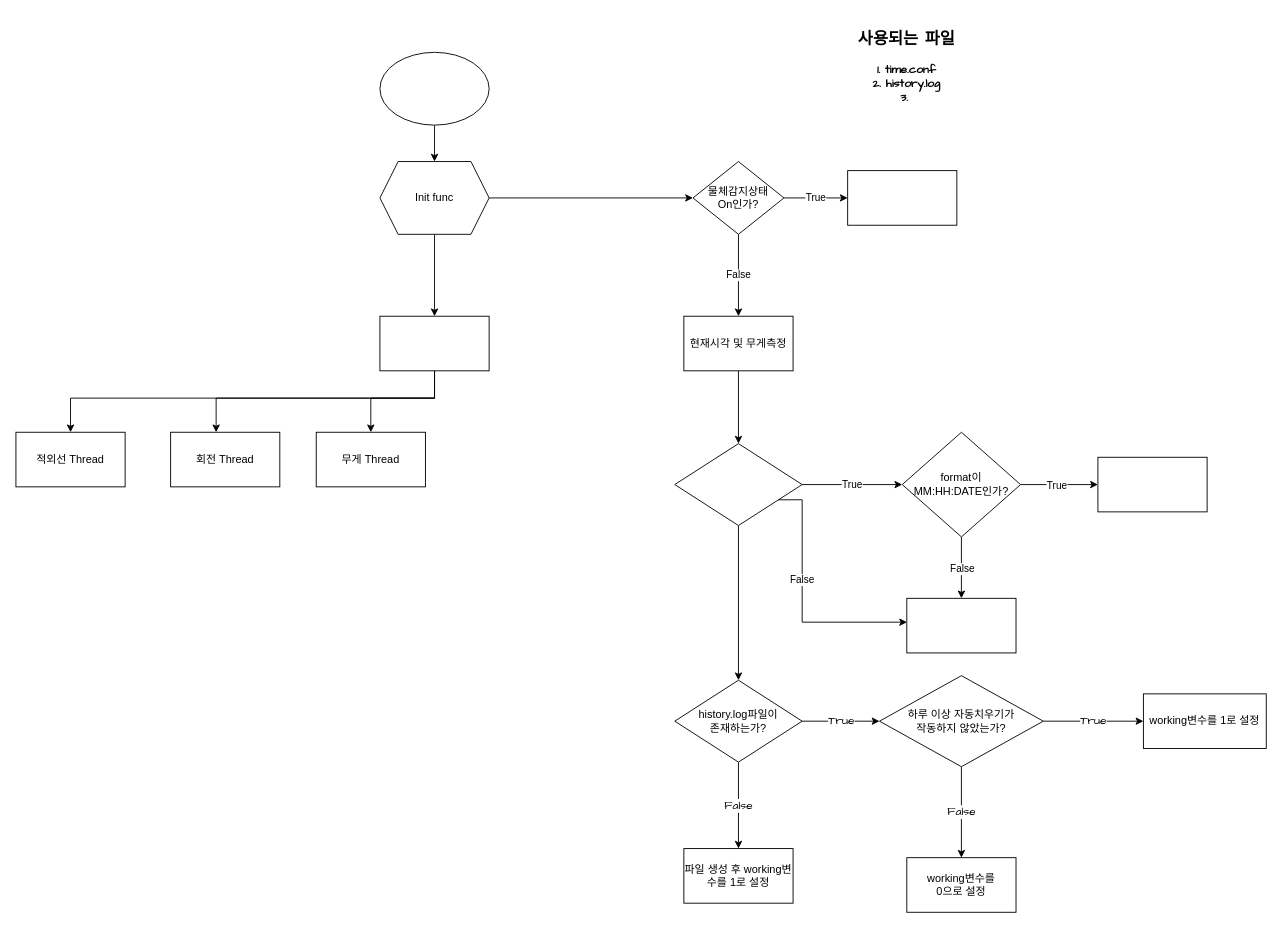
This 1282x928 diagram has some shape labels left out. Each missing label, with the centre of its shape:
"Main Process" belongs at [434,343].
"Off될 때 까지 loop" belongs at [902,197].
"time.conf파일이 존재하는가?" belongs at [738,484].
"모터의 동작 시간을 해당 분 시 요일 으로 설정" belongs at [1152,484].
"전원 ON" belongs at [434,88].
"파일 생성 후 모터의 동작 시간을 Default값으로 설정" belongs at [961,625].
